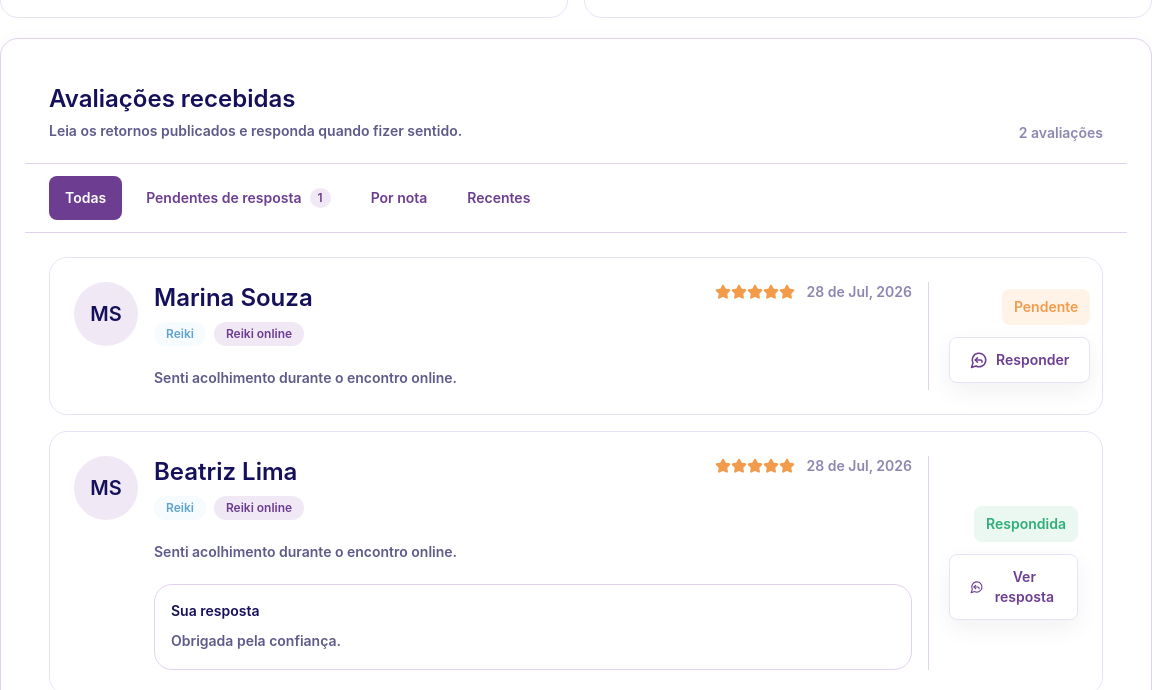
Scenario: TherapistReviewsPage › publishes a therapist reply and updates the list
(page scrolled)
Click the button "Responder": x=1020, y=360 [949,337,1090,383]
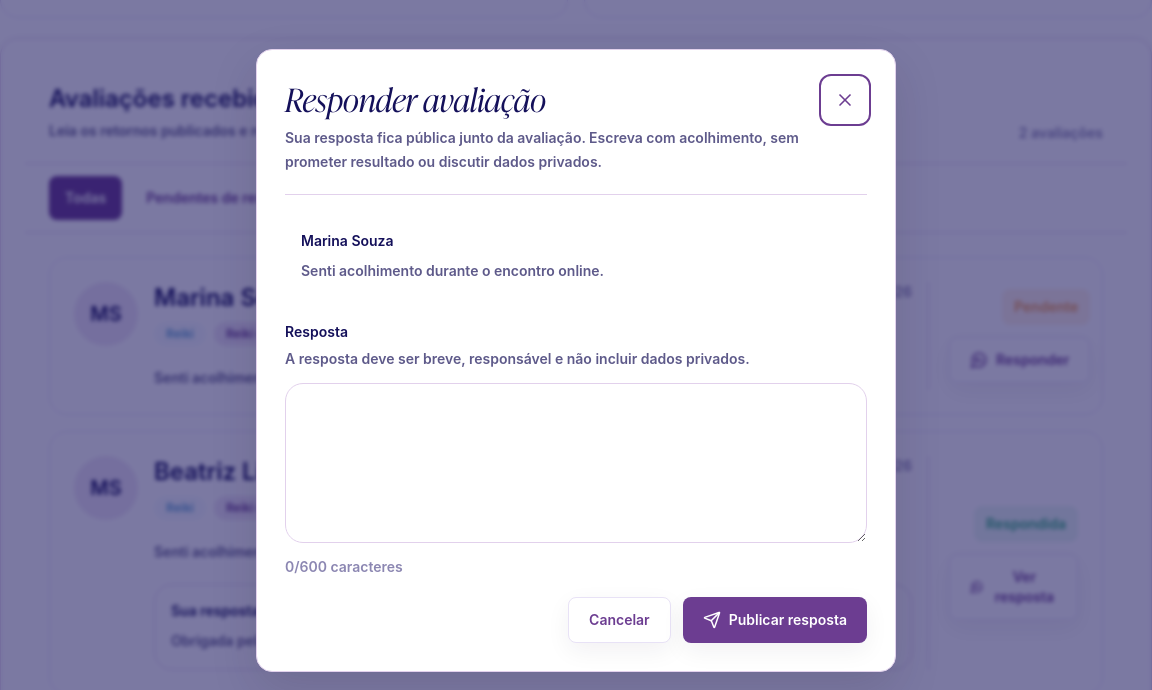
In the text box labelled "Resposta": x=576, y=462 [285,382,867,542], type "Obrigada por compartilhar sua experiência."
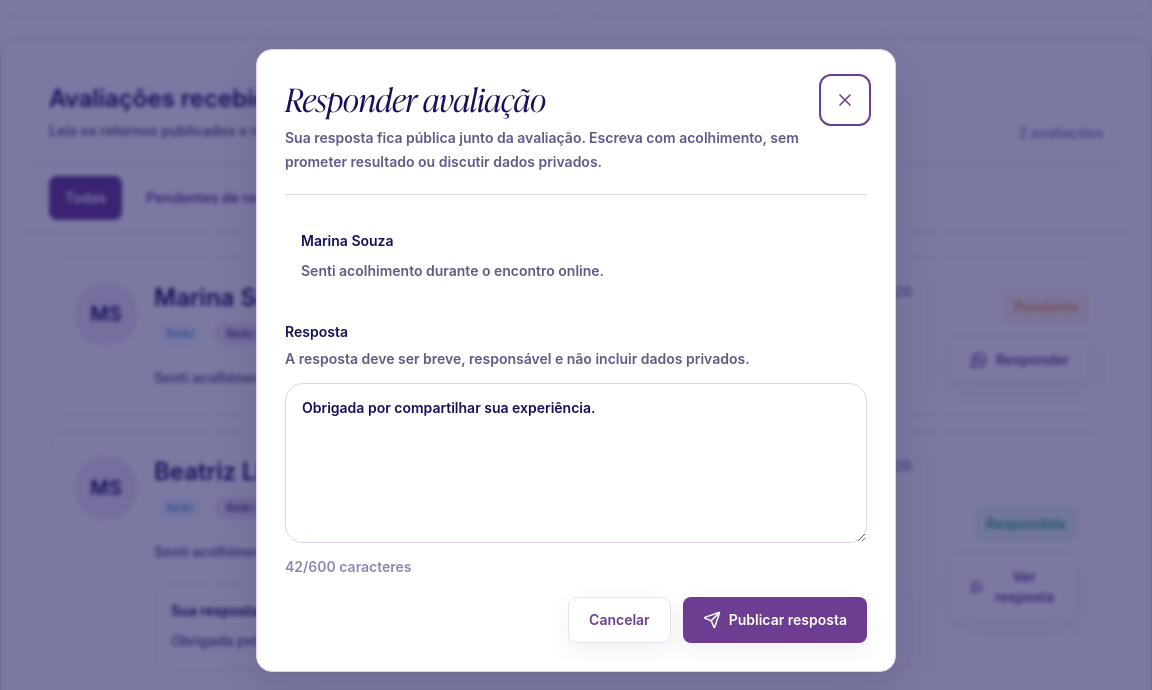
Click the button "Publicar resposta": x=775, y=620 [683,596,867,642]
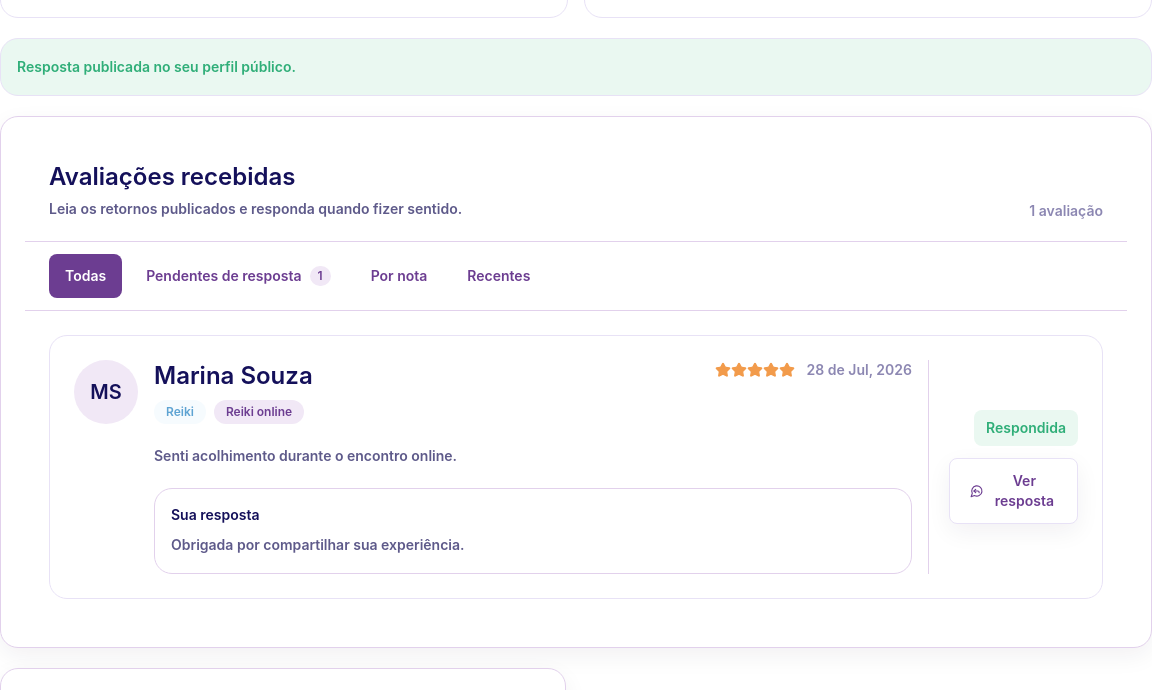
Expected: the text "Sua resposta" is shown, [171,506,260,523]
Result: the text "Resposta publicada no seu perfil público." is shown 2 times
